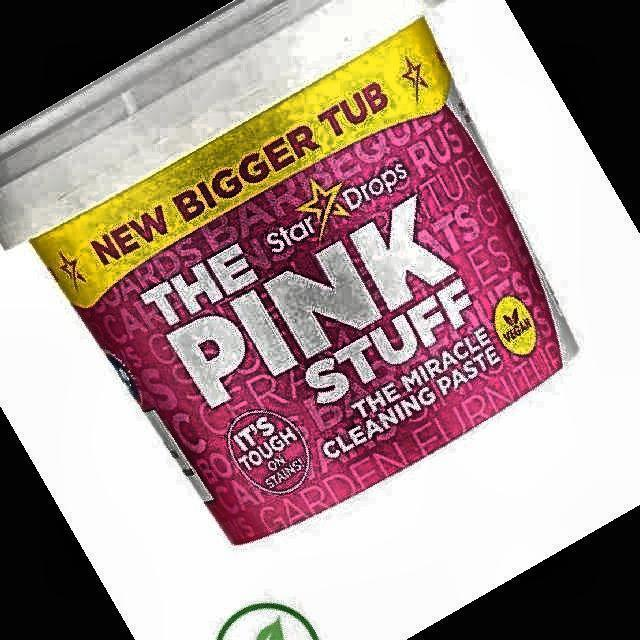plastic: (0, 0, 575, 542)
